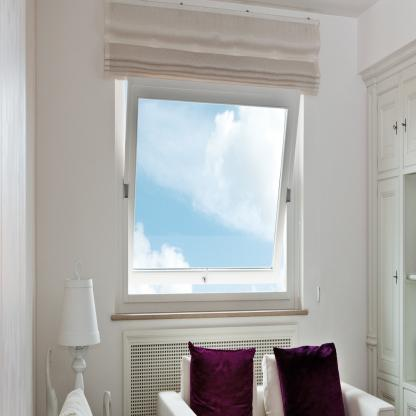Window: (115, 78, 302, 314)
